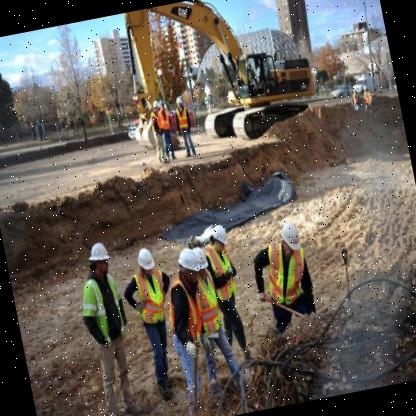capacete: (172, 242, 208, 280), (280, 220, 306, 254), (84, 237, 110, 264), (136, 244, 155, 272), (210, 221, 228, 244)
